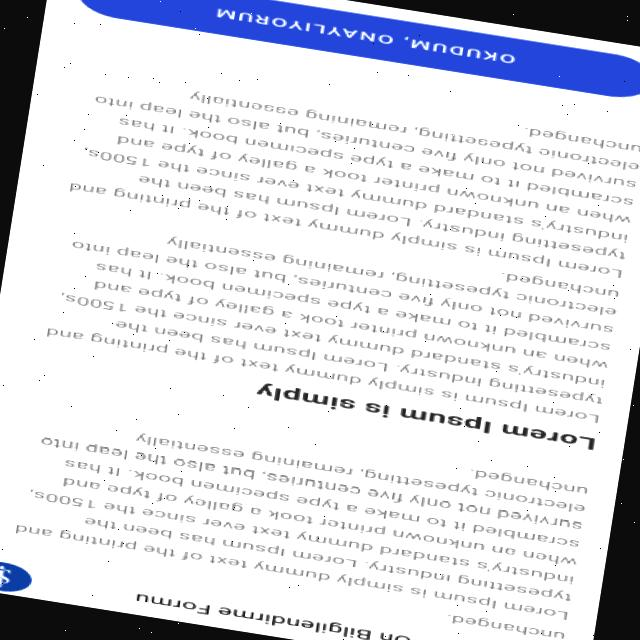QLabel: (0, 395, 594, 640), (39, 199, 634, 428), (62, 55, 640, 284), (246, 378, 604, 454), (208, 4, 522, 67), (129, 589, 420, 640)
VAppBar: (0, 548, 592, 640)
VBtn: (74, 0, 640, 104)
VFooter: (43, 0, 640, 121)
VImg: (0, 556, 31, 595)
